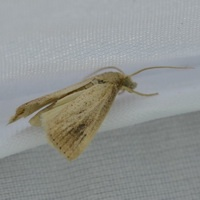insect: (8, 66, 192, 159)
